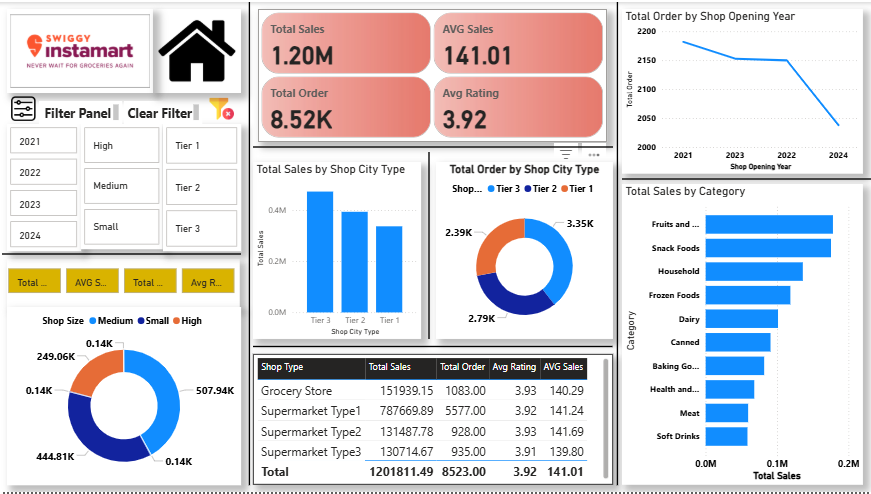

Layout of this report page (visuals, bound fields, positions):
{"tool":"powerbi","page":{"name":"Instamart Dashboard","canvas":[1280,720],"ordinal":0},"visuals":[{"type":"cardVisual","fields":{"Data":["Grocery Shop.Total Sales","Grocery Shop.AVG Sales","Grocery Shop.Total Order","Grocery Shop.Avg Rating"]},"box":[379.1,10.3,512.8,195.4],"z":0},{"type":"advancedSlicerVisual","fields":{"Values":["Metric.Metric"]},"box":[10.3,377.6,342.4,70.5],"z":1000},{"type":"donutChart","fields":{"Y":["Grocery Shop.Total Sales","Grocery Shop.AVG Sales","Grocery Shop.Total Order","Grocery Shop.Avg Rating"],"Category":["Grocery Shop.Shop Size"]},"box":[10.3,448.2,343.8,261.6],"z":2000},{"type":"columnChart","fields":{"Y":["Grocery Shop.Total Sales"],"Category":["Grocery Shop.Shop City Type"]},"box":[371.8,235.1,246.9,260.1],"z":3000},{"type":"donutChart","fields":{"Category":["Grocery Shop.Shop City Type"],"Y":["Grocery Shop.Total Order"]},"box":[640.7,235.1,260.1,260.1],"z":4000},{"type":"tableEx","fields":{"Values":["Grocery Shop.Shop Type","Grocery Shop.Total Sales","Grocery Shop.Total Order","Grocery Shop.Avg Rating","Grocery Shop.AVG Sales"]},"box":[371.8,517.2,529,192.5],"z":5000},{"type":"lineChart","fields":{"Category":["Grocery Shop.Shop Opening Year"],"Y":["Grocery Shop.Total Order"]},"box":[914,10.3,354.1,242.4],"z":6000},{"type":"clusteredBarChart","fields":{"Category":["Grocery Shop.Category"],"Y":["Grocery Shop.Total Sales"]},"box":[914,267.4,354.1,442.3],"z":7000},{"type":"advancedSlicerVisual","fields":{"Values":["Grocery Shop.Shop Opening Year"]},"box":[10.3,179.3,108.7,186.6],"z":8000},{"type":"advancedSlicerVisual","fields":{"Values":["Grocery Shop.Shop Size"]},"box":[119,179.3,120.5,183.7],"z":9000},{"type":"advancedSlicerVisual","fields":{"Values":["Grocery Shop.Shop City Type"]},"box":[239.5,179.3,114.6,186.6],"z":10000},{"type":"shape","box":[900.7,0,13.2,709.7],"z":11000},{"type":"shape","box":[603.9,220.4,52.9,274.8],"z":12000},{"type":"shape","box":[371.8,495.2,529,22],"z":13000},{"type":"shape","box":[361.5,0,10.3,709.7],"z":14000},{"type":"shape","box":[914,252.7,365.9,14.7],"z":15000},{"type":"shape","box":[2.9,362.9,351.2,14.7],"z":16000},{"type":"image","box":[10.3,10.3,214.5,123.4],"z":17000},{"type":"image","box":[10.3,133.7,47,45.6],"z":18000},{"type":"textbox","box":[57.3,145.5,122,33.8],"z":19000},{"type":"image","box":[296.8,133.7,57.3,45.6],"z":20000},{"type":"textbox","box":[182.2,145.5,114.6,33.8],"z":21000},{"type":"image","box":[224.8,10.3,129.3,123.4],"z":22000},{"type":"shape","box":[371.8,205.7,529,14.7],"z":23000}]}

Visuals, with their boxes in screenshot pixels (x1, y1, x2, y2), scaled from the page's 1280x720 canvas onto the 871x494 screenshot:
cardVisual - Grocery Shop.Total Sales x Grocery Shop.AVG Sales: 258,7,607,141
advancedSlicerVisual - Metric.Metric: 7,259,240,307
donutChart - Grocery Shop.Total Sales x Grocery Shop.AVG Sales: 7,308,241,487
columnChart - Grocery Shop.Total Sales x Grocery Shop.Shop City Type: 253,161,421,340
donutChart - Grocery Shop.Shop City Type x Grocery Shop.Total Order: 436,161,613,340
tableEx - Grocery Shop.Shop Type x Grocery Shop.Total Sales: 253,355,613,487
lineChart - Grocery Shop.Shop Opening Year x Grocery Shop.Total Order: 622,7,863,173
clusteredBarChart - Grocery Shop.Category x Grocery Shop.Total Sales: 622,183,863,487
advancedSlicerVisual - Grocery Shop.Shop Opening Year: 7,123,81,251
advancedSlicerVisual - Grocery Shop.Shop Size: 81,123,163,249
advancedSlicerVisual - Grocery Shop.Shop City Type: 163,123,241,251
shape: 613,0,622,487
shape: 411,151,447,340
shape: 253,340,613,355
shape: 246,0,253,487
shape: 622,173,870,183
shape: 2,249,241,259
image: 7,7,153,92
image: 7,92,39,123
textbox: 39,100,122,123
image: 202,92,241,123
textbox: 124,100,202,123
image: 153,7,241,92
shape: 253,141,613,151
